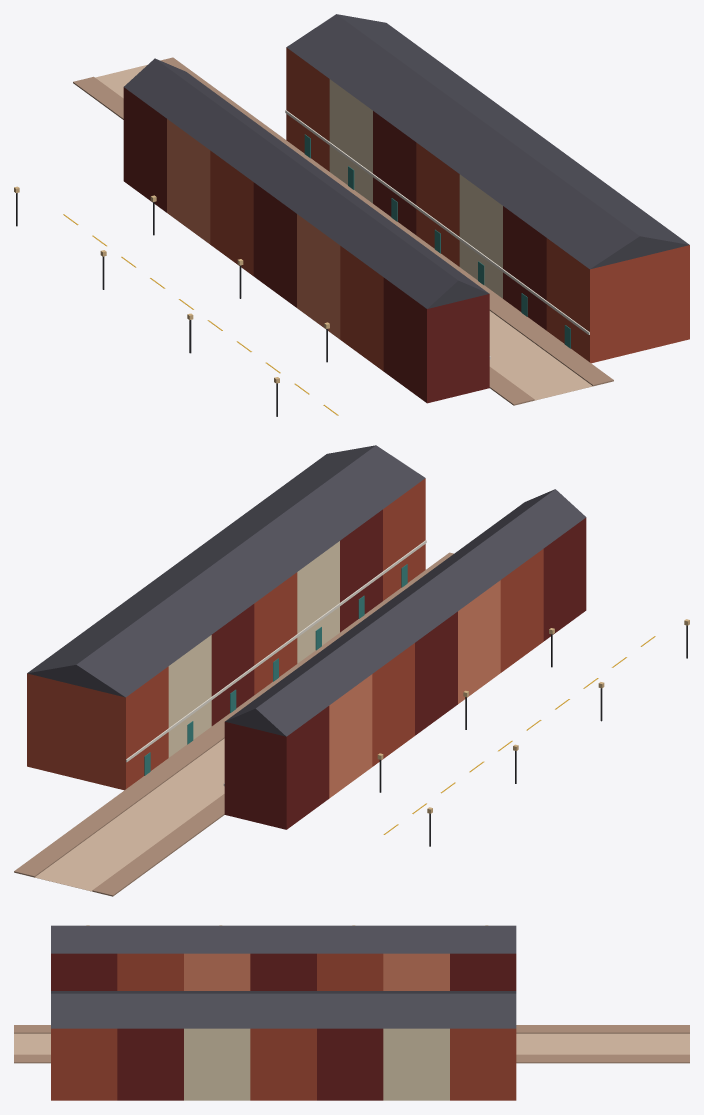
Rendered from chunk_-2_1.glb.
3 views of the same model, one above another, from view 1: azimuth 30°, elevation 25°; view 2: azimuth 150°, elevation 25°; view 3: azimuth 270°, elevation 25° (orthographic). The views are drawn at different scales.
Visible parts, largest first — view 1: chunk_-2_1__building, chunk_-2_1__ground, chunk_-2_1__lamp; view 2: chunk_-2_1__building, chunk_-2_1__ground, chunk_-2_1__lamp; view 3: chunk_-2_1__building, chunk_-2_1__ground.
Boxes of the visible parts, box(x1,y1,x2,y2) form: chunk_-2_1__building: box(123, 14, 689, 403); chunk_-2_1__ground: box(63, 57, 613, 415); chunk_-2_1__lamp: box(14, 186, 329, 416); chunk_-2_1__building: box(27, 445, 586, 829); chunk_-2_1__ground: box(14, 552, 655, 896); chunk_-2_1__lamp: box(377, 619, 689, 846); chunk_-2_1__building: box(51, 925, 516, 1100); chunk_-2_1__ground: box(14, 1025, 689, 1063).
Size of the model in its own units: 46.82 by 13.2 by 91.5.
